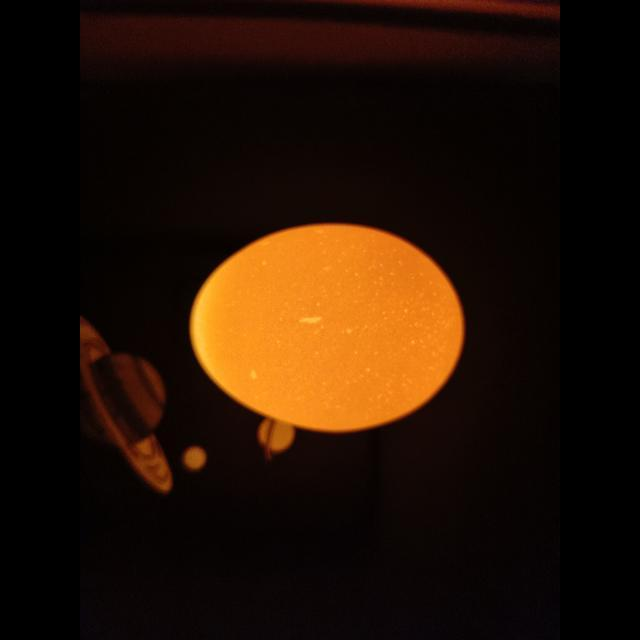AA - Premium: (190, 224, 464, 431)
